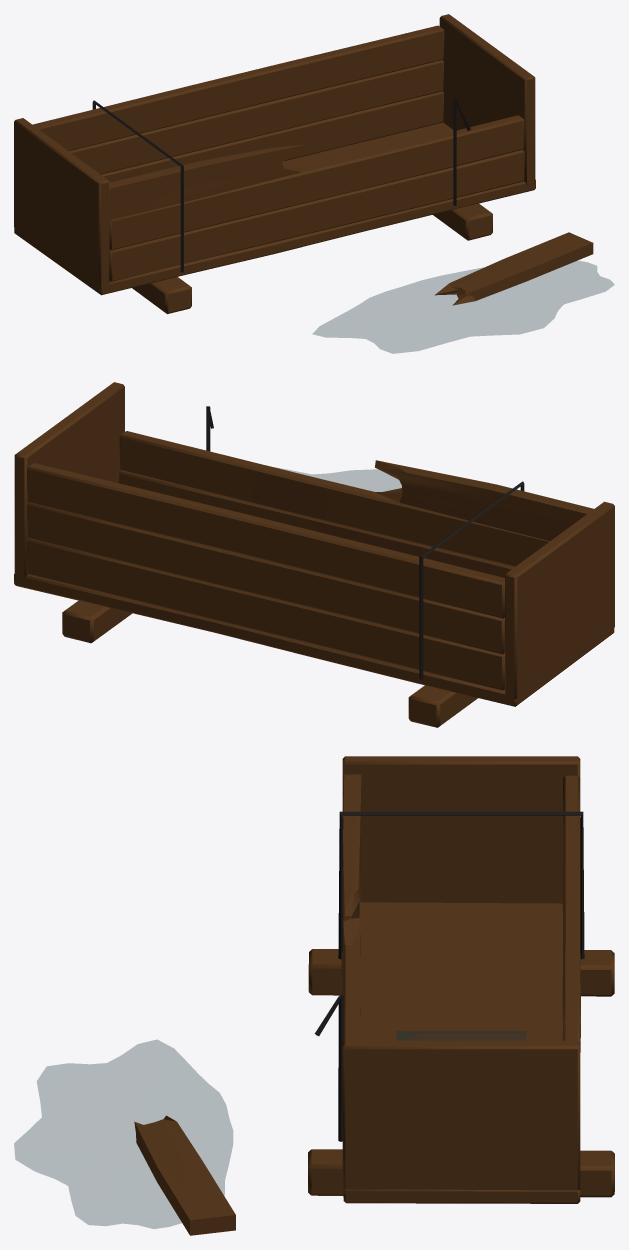
The model's file is wassertrog_kaputt.glb.
The picture shows the model from 3 angles, top to bottom: view 1: azimuth 30°, elevation 25°; view 2: azimuth 150°, elevation 25°; view 3: azimuth 270°, elevation 25°; orthographic projection. The views are drawn at different scales.
Parts seen in each view (by area): view 1: wassertrog_kaputt; view 2: wassertrog_kaputt; view 3: wassertrog_kaputt.
Boxes of the visible parts, bbox=[...] form: wassertrog_kaputt: bbox=[14, 14, 614, 353]; wassertrog_kaputt: bbox=[14, 382, 614, 727]; wassertrog_kaputt: bbox=[14, 756, 614, 1235].
Size of the model in its own units: 1.6 by 0.4806 by 1.39.
